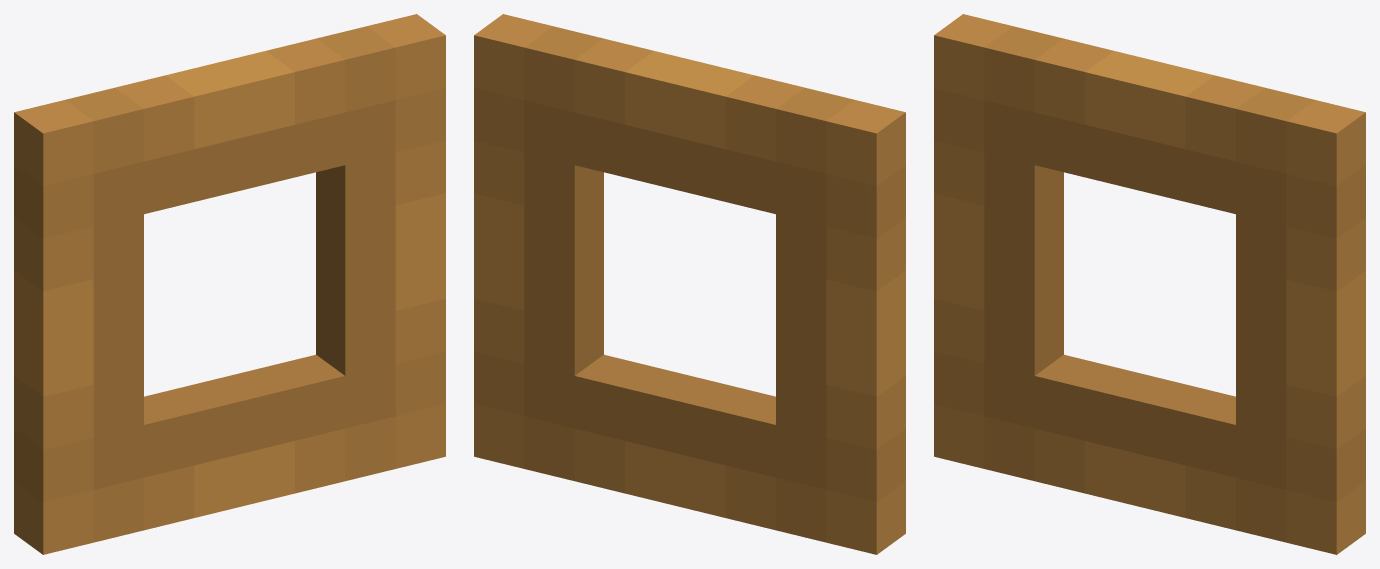
The model's file is Palm Trapdoor.glb.
3 renders of one model, left to right at view 1: azimuth 30°, elevation 25°; view 2: azimuth 150°, elevation 25°; view 3: azimuth 330°, elevation 25°, orthographic.
Visible parts, largest first — view 1: generated(Clone); view 2: generated(Clone); view 3: generated(Clone).
Boxes of the visible parts, bbox=[...] form: generated(Clone): bbox=[14, 14, 445, 554]; generated(Clone): bbox=[474, 14, 905, 554]; generated(Clone): bbox=[934, 14, 1365, 554].
Size of the model in its own units: 8 by 8 by 1.
Materials: 1 (1 with a texture image).
